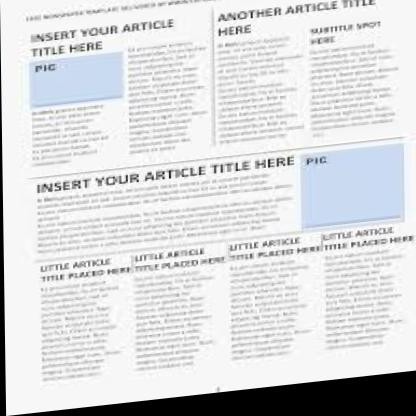Paper: (26, 0, 416, 414)
